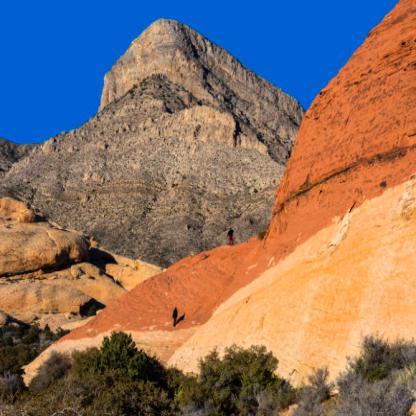Sedimentary_Sandstone: (273, 0, 415, 245), (97, 12, 230, 134), (41, 140, 251, 208), (209, 81, 299, 174)
